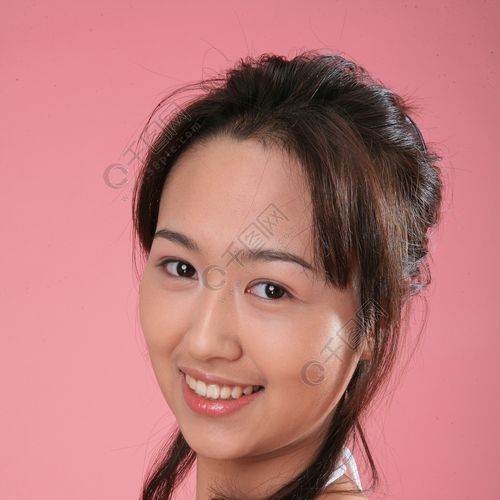no_mask: (137, 121, 379, 462)
